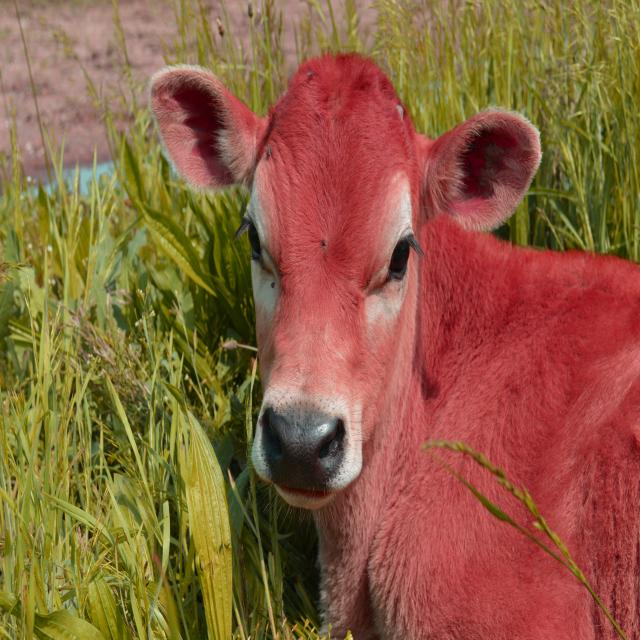cow: (151, 56, 640, 637)
